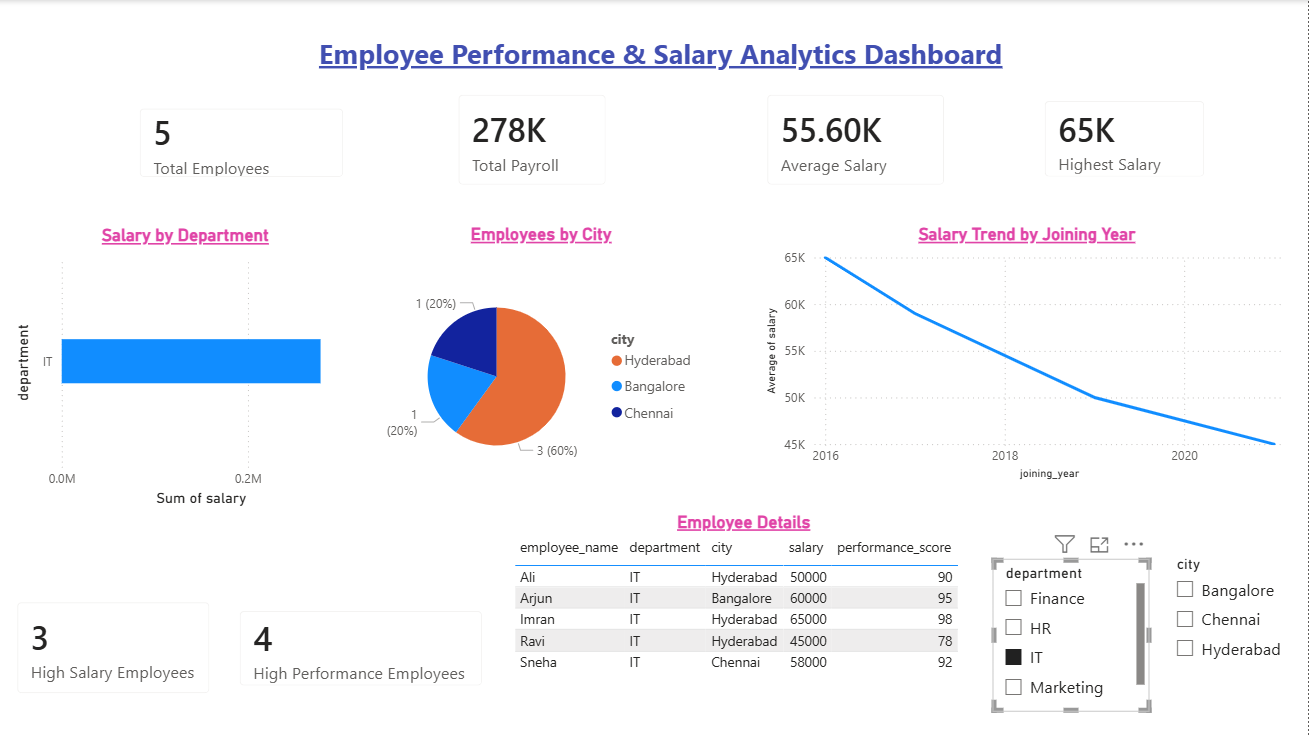

What the dashboard file says about the page in this screenshot:
{"tool":"powerbi","page":{"name":"Page 1","canvas":[1280,720],"ordinal":0},"visuals":[{"type":"cardVisual","fields":{"Data":["CountNonNull(Sheet1.employee_id)"]},"box":[119.8,89.3,233.6,101.5],"z":0},{"type":"cardVisual","fields":{"Data":["Sum(Sheet1.salary)"]},"box":[431.7,75.8,178.5,122.3],"z":1000},{"type":"cardVisual","fields":{"Data":["Avg(Sheet1.salary)"]},"box":[733.7,75.8,207.9,122.3],"z":2000},{"type":"cardVisual","fields":{"Data":["Max(Sheet1.salary)"]},"box":[1005.2,81.9,190.8,108.8],"z":3000},{"type":"clusteredBarChart","title":"Salary by Department","fields":{"Category":["Sheet1.department"],"Y":["Sum(Sheet1.salary)"]},"box":[9.6,219.6,343.1,279.9],"z":4000},{"type":"pieChart","title":"Employees by City","fields":{"Category":["Sheet1.city"],"Y":["CountNonNull(Sheet1.employee_id)"]},"box":[369.3,218.9,320.4,280],"z":5000},{"type":"lineChart","title":"Salary Trend by Joining Year","fields":{"Category":["Sheet1.joining_year"],"Y":["Avg(Sheet1.salary)"]},"box":[744.7,218.9,519.7,255.6],"z":6000},{"type":"tableEx","title":"Employee Details","fields":{"Values":["Sheet1.employee_name","Sheet1.department","Sheet1.city","Sheet1.salary","Sheet1.performance_score"]},"box":[497.7,500.1,459.8,220.1],"z":7000},{"type":"slicer","fields":{"Values":["Sheet1.department"]},"box":[970.9,546.6,154.1,149.2],"z":7001},{"type":"slicer","fields":{"Values":["Sheet1.city"]},"box":[1138.5,538,141.8,150.4],"z":7002},{"type":"cardVisual","fields":{"Data":["Sheet1.High Salary Employees"]},"box":[0,572.3,222.6,123.5],"z":7003},{"type":"cardVisual","fields":{"Data":["Sheet1.High Performance Employees"]},"box":[217.7,580.8,271.5,107.6],"z":7004},{"type":"textbox","box":[201.7,28.8,889.2,56.3],"z":7005}]}

Visuals, with their boxes in screenshot pixels (x1, y1, x2, y2), scaled from the page's 1280x720 canvas onto the 1309x736 screenshot:
cardVisual - CountNonNull(Sheet1.employee_id): pyautogui.locateOnScreen(123, 91, 361, 195)
cardVisual - Sum(Sheet1.salary): pyautogui.locateOnScreen(441, 77, 624, 203)
cardVisual - Avg(Sheet1.salary): pyautogui.locateOnScreen(750, 77, 963, 203)
cardVisual - Max(Sheet1.salary): pyautogui.locateOnScreen(1028, 84, 1223, 195)
"Salary by Department" clusteredBarChart: pyautogui.locateOnScreen(10, 224, 361, 511)
"Employees by City" pieChart: pyautogui.locateOnScreen(378, 224, 705, 510)
"Salary Trend by Joining Year" lineChart: pyautogui.locateOnScreen(762, 224, 1293, 485)
"Employee Details" tableEx: pyautogui.locateOnScreen(509, 511, 979, 735)
slicer - Sheet1.department: pyautogui.locateOnScreen(993, 559, 1150, 711)
slicer - Sheet1.city: pyautogui.locateOnScreen(1164, 550, 1308, 704)
cardVisual - Sheet1.High Salary Employees: pyautogui.locateOnScreen(0, 585, 228, 711)
cardVisual - Sheet1.High Performance Employees: pyautogui.locateOnScreen(223, 594, 500, 704)
textbox: pyautogui.locateOnScreen(206, 29, 1116, 87)
